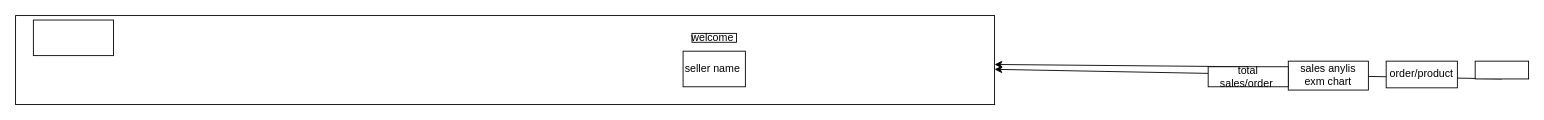
Image size: 1544x120. Some labels were removed from this diagram. Each missing label, with the centre of its shape:
"logo image" goes at pixel 72 37.
"logout" goes at pixel 1501 69.
